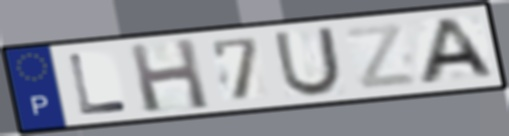7: (209, 35, 262, 103)
A: (415, 15, 501, 87)
H: (125, 36, 214, 115)
L: (64, 51, 131, 117)
U: (271, 24, 345, 98)
Z: (340, 20, 422, 92)
